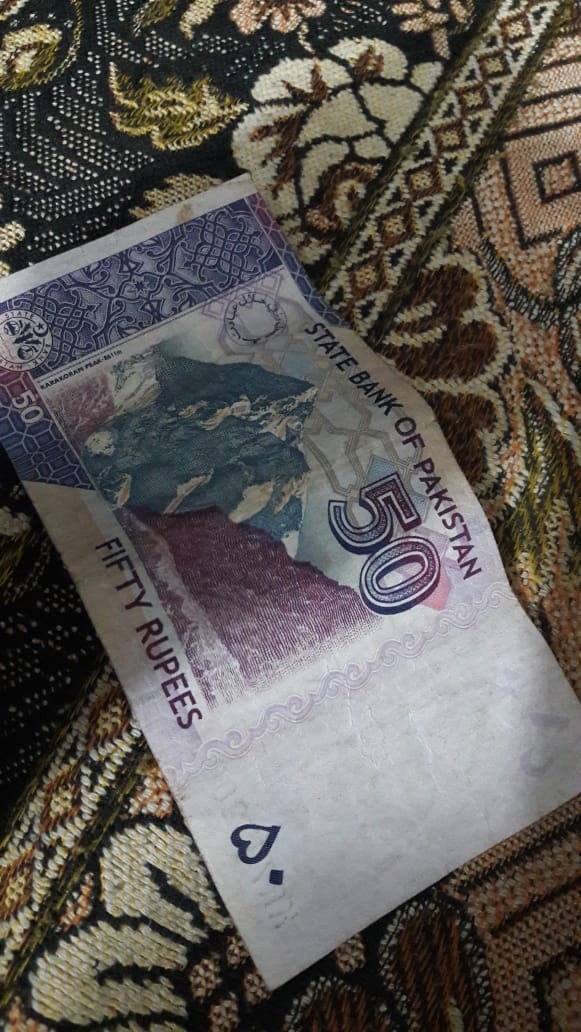50 rupee: (14, 171, 572, 988)
